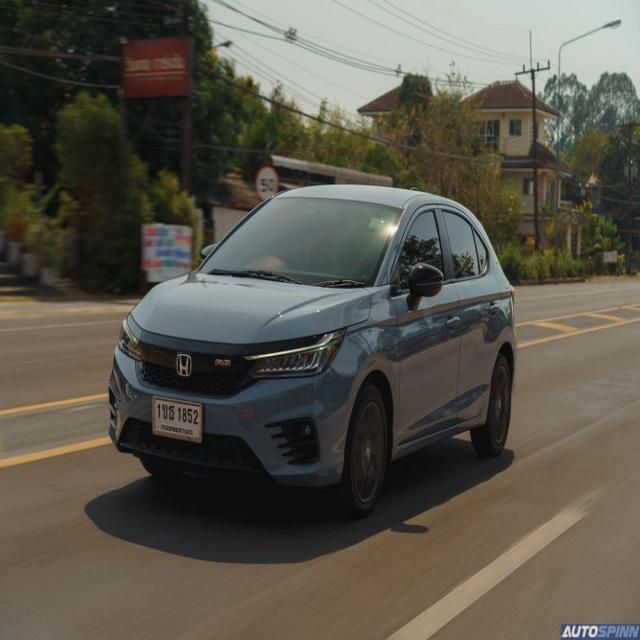Hatchback: (109, 185, 516, 518)
